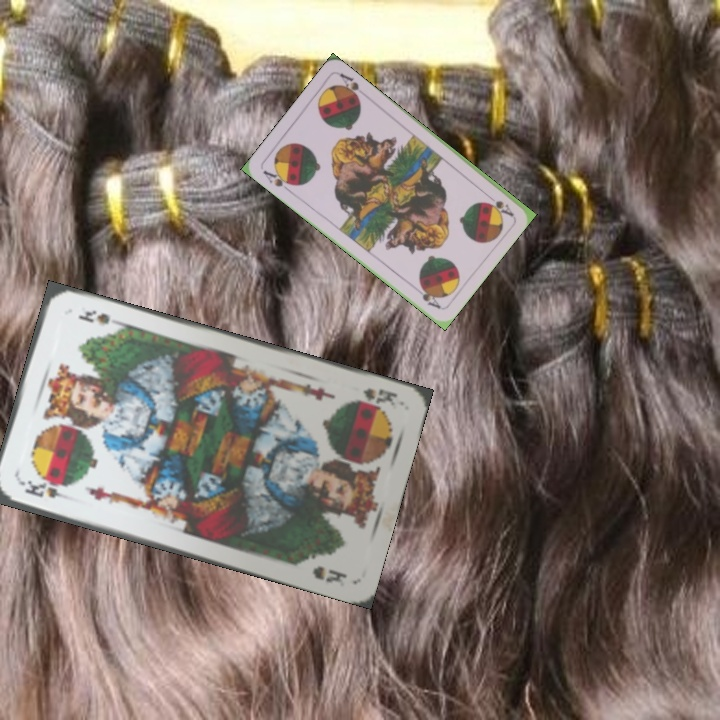SA: (259, 166, 297, 195), (481, 189, 516, 219)
SK: (16, 476, 74, 504), (351, 384, 401, 410)
